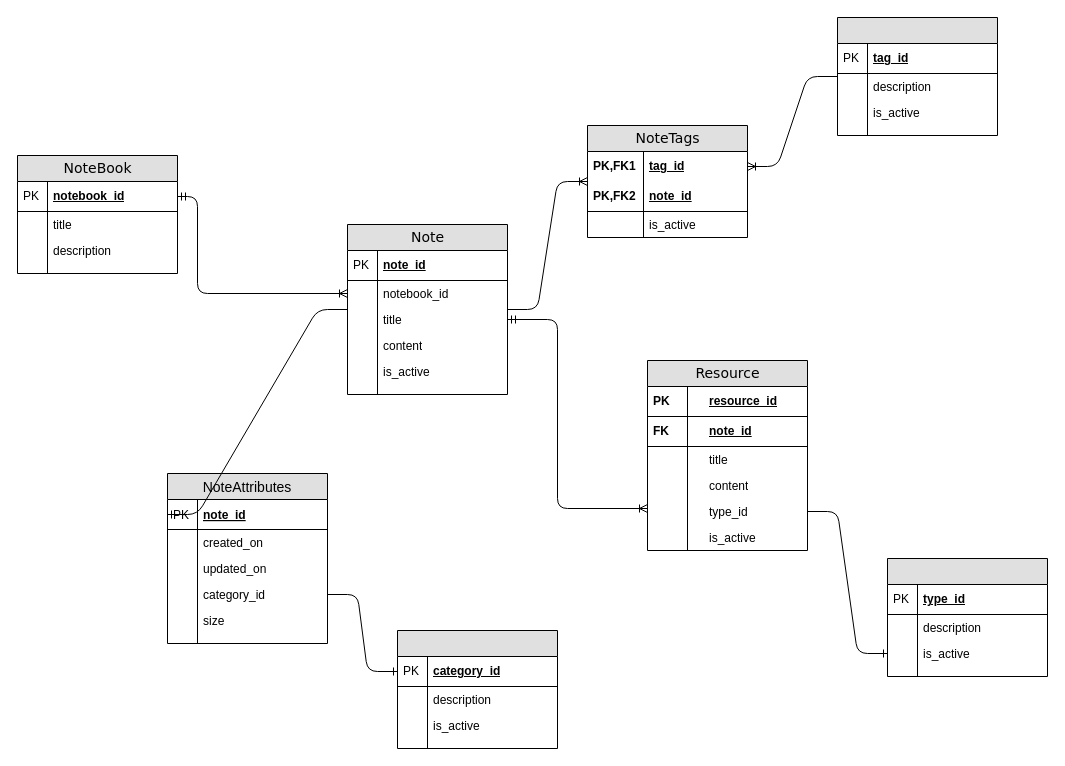
Some shapes in this 1065 by 766 pixel diagram are drawn without their labels. Here are the shapes that lost their labels. From the top down, the box of each, then its label:
(836, 16, 998, 136): Tags
(886, 558, 1048, 676): ResouceType
(396, 630, 558, 748): NoteCategory
